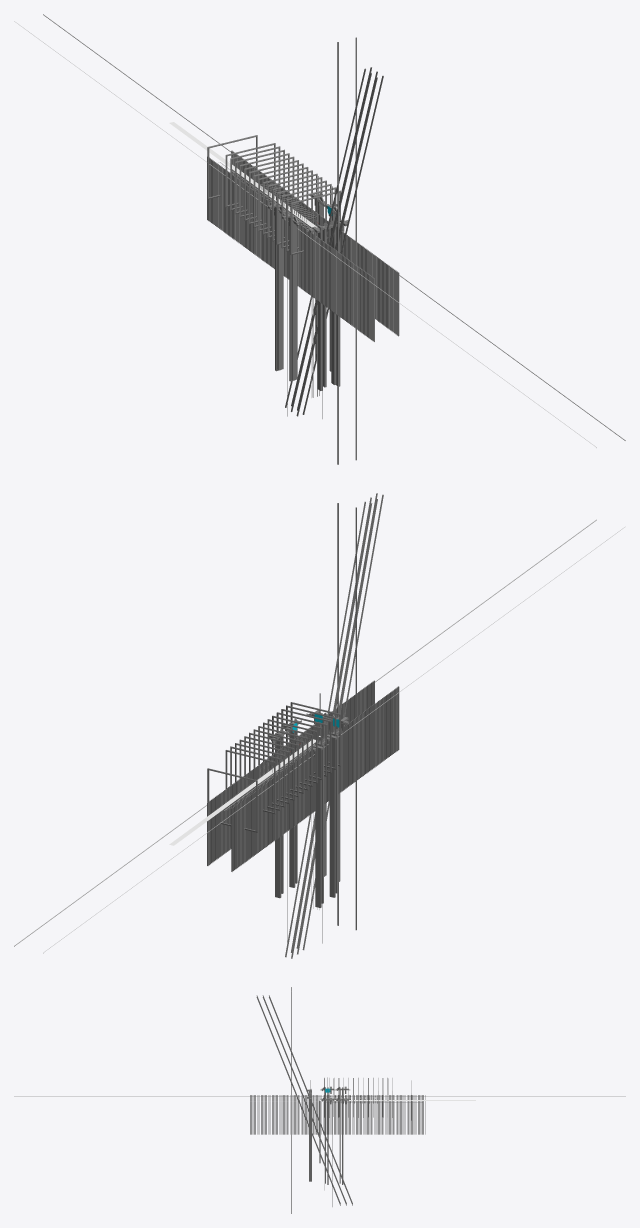
File: thesecond.glb
3 views of the same model, one above another, from view 1: azimuth 30°, elevation 25°; view 2: azimuth 150°, elevation 25°; view 3: azimuth 270°, elevation 25° (orthographic). The views are drawn at different scales.
Visible parts, largest first — view 1: Spectrogram0 (×2), Spectrogram1 (×2), BackColumns, NearBuildingLeftTS (×2), TrackConstruction, NearBuildingLeftTS (1), NearBuildingRightTS, TrackMirror; view 2: Spectrogram1 (×2), Spectrogram0 (×2), BackColumns, TrackConstruction, NearBuildingLeftTS (1), NearBuildingLeftTS, NearBuildingRightTS (1), TrackMirror, NearBuildingRightTS; view 3: Spectrogram0 (×2), Spectrogram1 (×2), BackColumns, TrackConstruction, NearBuildingRightTS (1).
Part boxes in pixels (left/top/right/bottom): Spectrogram0 (×2): left=297, top=212, right=399, bottom=341; Spectrogram1 (×2): left=207, top=150, right=315, bottom=279; BackColumns: left=285, top=37, right=383, bottom=464; NearBuildingLeftTS (×2): left=282, top=196, right=327, bottom=390; TrackConstruction: left=14, top=14, right=625, bottom=447; NearBuildingLeftTS (1): left=268, top=186, right=285, bottom=371; NearBuildingRightTS: left=328, top=220, right=348, bottom=386; TrackMirror: left=169, top=122, right=317, bottom=227; Spectrogram1 (×2): left=207, top=742, right=315, bottom=871; Spectrogram0 (×2): left=291, top=680, right=399, bottom=804; BackColumns: left=285, top=493, right=383, bottom=958; TrackConstruction: left=14, top=519, right=625, bottom=953; NearBuildingLeftTS (1): left=309, top=722, right=325, bottom=907; NearBuildingLeftTS: left=324, top=712, right=339, bottom=897; NearBuildingRightTS (1): left=269, top=713, right=287, bottom=898; TrackMirror: left=169, top=739, right=315, bottom=845; NearBuildingRightTS: left=283, top=702, right=301, bottom=887; Spectrogram0 (×2): left=250, top=1095, right=337, bottom=1134; Spectrogram1 (×2): left=338, top=1095, right=425, bottom=1134; BackColumns: left=256, top=987, right=352, bottom=1213; TrackConstruction: left=14, top=1096, right=625, bottom=1190; NearBuildingRightTS (1): left=335, top=1097, right=350, bottom=1184.
Bounding box in the file's own units: 53 × 400 × 1000.
17 materials, 3 textured.
